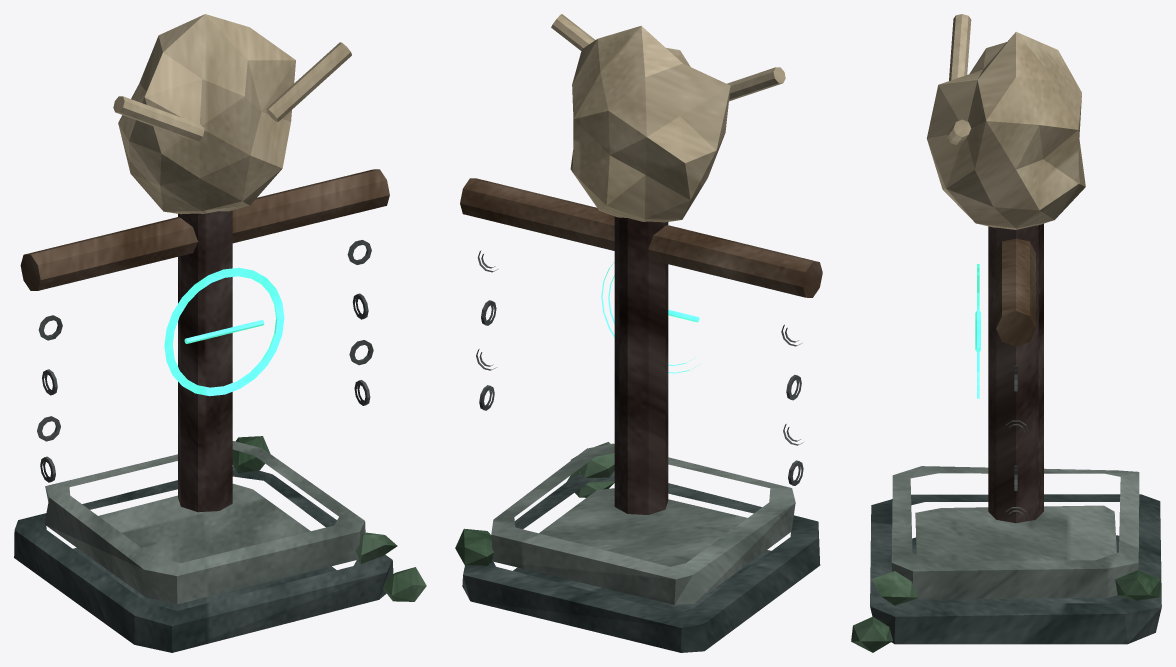
Rendered from 0511_effigy_11.glb.
3 renders of one model, left to right at view 1: azimuth 30°, elevation 25°; view 2: azimuth 150°, elevation 25°; view 3: azimuth 270°, elevation 25°, orthographic.
Visible parts, largest first — view 1: bone, stone, stone_dark, wood_dark, wood, glow, moss, iron; view 2: bone, stone, stone_dark, wood_dark, wood, moss, iron; view 3: bone, stone, stone_dark, wood_dark, wood, moss, glow.
Part boxes in pixels (x1,y1,x2,y2): bone: [113, 14, 351, 214]; stone: [44, 441, 365, 604]; stone_dark: [14, 466, 393, 652]; wood_dark: [178, 210, 232, 512]; wood: [20, 169, 389, 290]; glow: [164, 267, 284, 396]; moss: [232, 436, 426, 601]; iron: [37, 240, 373, 482]; bone: [551, 14, 785, 222]; stone: [491, 443, 795, 604]; stone_dark: [462, 471, 820, 652]; wood_dark: [614, 216, 668, 514]; wood: [460, 178, 822, 297]; moss: [455, 442, 614, 565]; iron: [476, 250, 803, 485]; bone: [926, 14, 1085, 229]; stone: [891, 466, 1139, 599]; stone_dark: [870, 494, 1161, 644]; wood_dark: [988, 223, 1043, 523]; wood: [996, 238, 1035, 346]; moss: [851, 570, 1160, 652]; glow: [975, 264, 980, 398].
Bounding box in the file's own units: 2 × 3.08 × 1.56.
8 materials, 8 textured.
